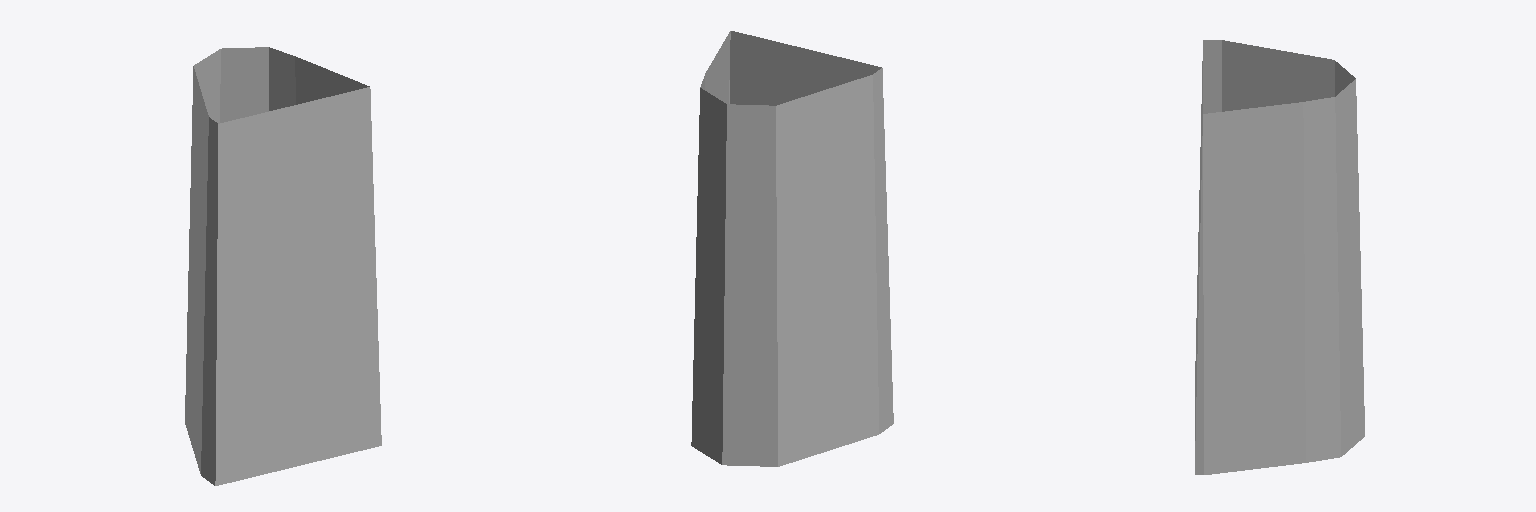
File: legUpperRight.obj
3 views of the same model, side by side, from view 1: azimuth 30°, elevation 25°; view 2: azimuth 150°, elevation 25°; view 3: azimuth 270°, elevation 25° (orthographic).
Size of the model in its own units: 5.56 by 11.42 by 4.93.